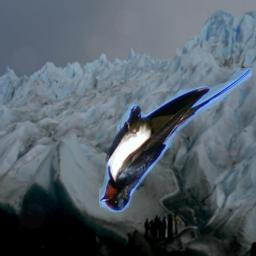Swallow: (99, 68, 253, 212)
